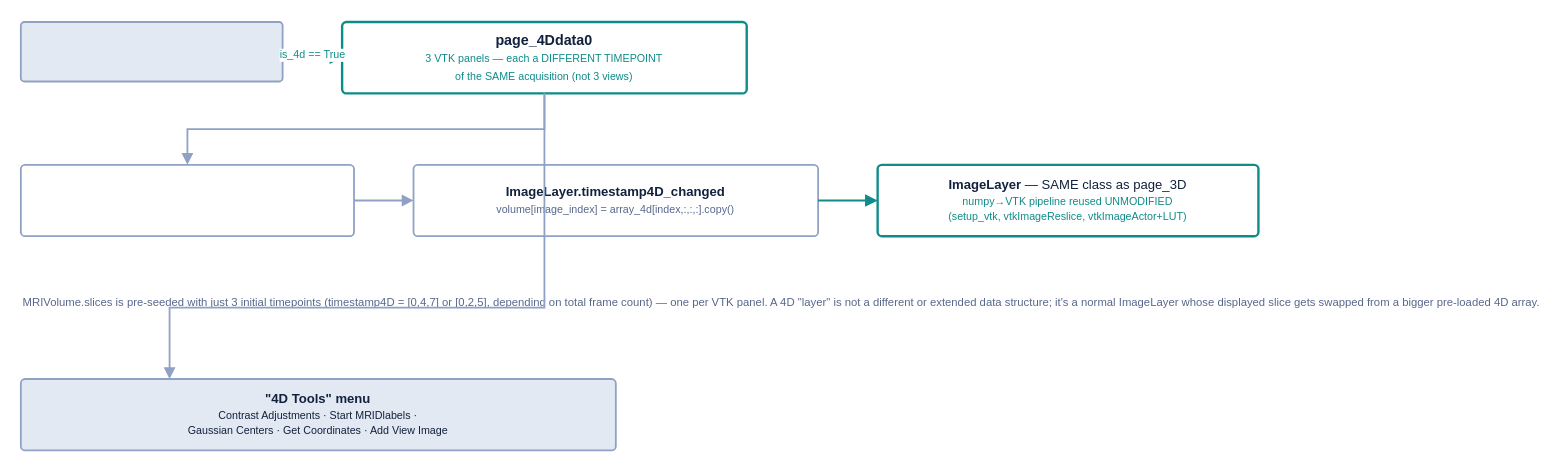
The diagram is 1561 pixels wide and 471 high, and some of its shapes have lost their labels. The shapes that lost their labels are listed below. From the top down, each one's box as (x1, y1, x2, y2) in pixels, then its label:
(19, 21, 283, 82): FileLoader.initialize_file()
(19, 163, 354, 237): MRIVolume.array_4d full time series, shape [time, z, y, x]
